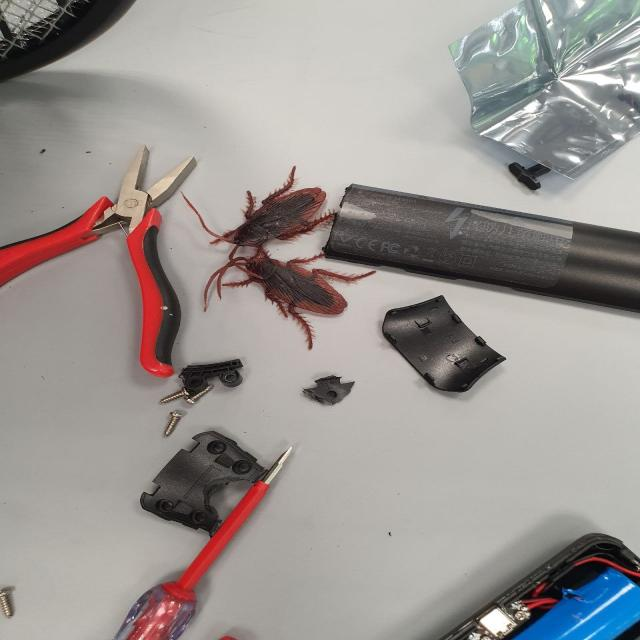Cockroach: (201, 240, 375, 350), (184, 174, 354, 257)
